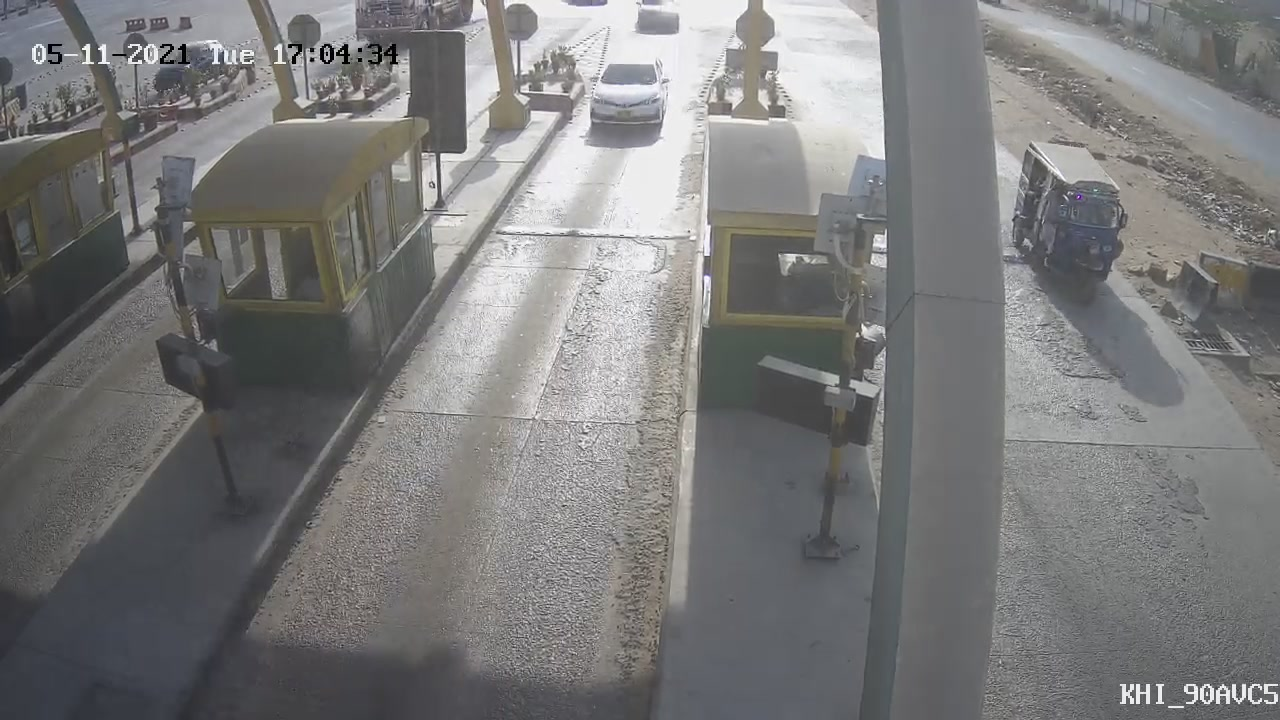F1: (569, 44, 686, 153)
